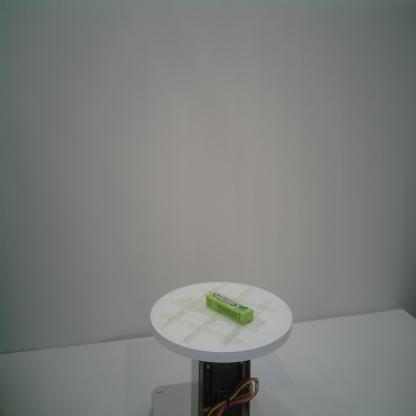Gum: (206, 291, 254, 325)
